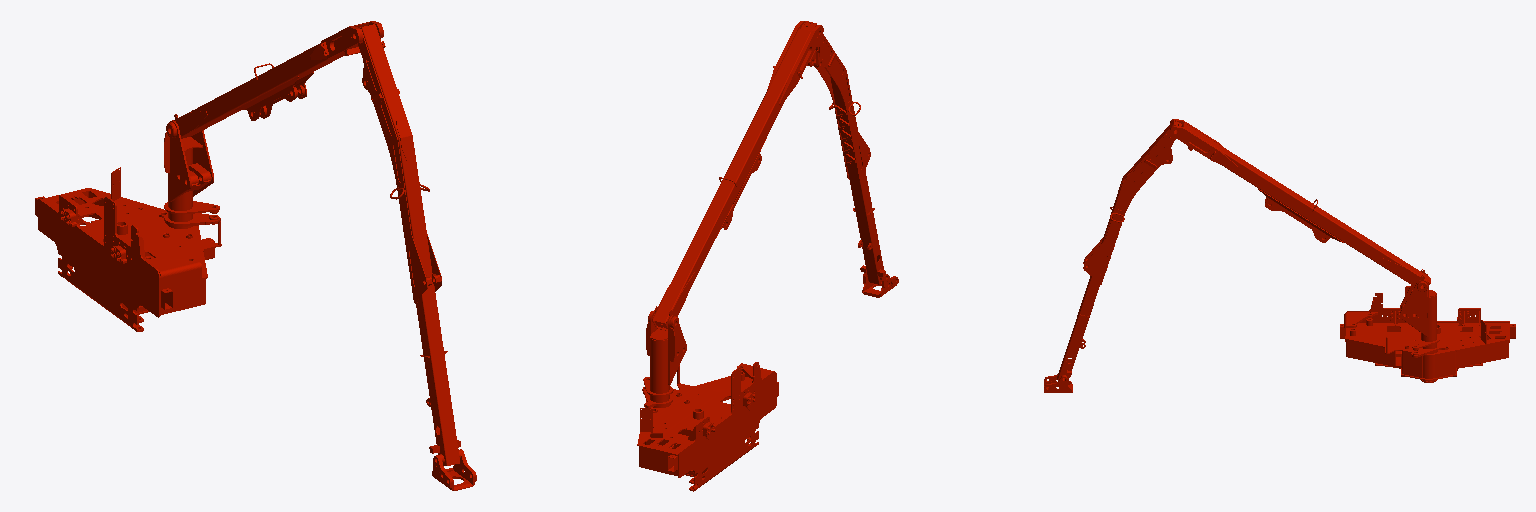
The robot description file, URDF, robot "Unimog_Mulag_FME500":
<robot name="Unimog_Mulag_FME500" version="1.0">
  <joint name="Drehzapfen_joint" type="revolute">
    <dynamics damping="50.00000"/>
    <limit lower="-1.57000" upper="0.52000" effort="50.00000" velocity="2.00000"/>
    <origin rpy="0.00000 0.00000 0.00000" xyz="0.59497 0.00002 0.05046"/>
    <parent link="Frontrahmen"/>
    <child link="Drehzapfen"/>
    <axis xyz="0.00000 0.00000 1.00000"/>
  </joint>
  <joint name="Ausleger_I_joint" type="revolute">
    <dynamics damping="50.00000"/>
    <limit lower="-0.52000" upper="0.52000" effort="50.00000" velocity="2.00000"/>
    <origin rpy="-1.57080 -0.60387 -1.57080" xyz="0.00000 -0.06001 0.98999"/>
    <parent link="Drehzapfen"/>
    <child link="Ausleger_I"/>
    <axis xyz="0.00000 0.00000 1.00000"/>
  </joint>
  <joint name="Ausleger_II_joint" type="revolute">
    <dynamics damping="50.00000"/>
    <limit lower="-0.52000" upper="0.52000" effort="50.00000" velocity="2.00000"/>
    <origin rpy="-0.00000 0.00000 1.78473" xyz="2.74997 -0.00009 0.00000"/>
    <parent link="Ausleger_I"/>
    <child link="Ausleger_II"/>
    <axis xyz="0.00000 0.00000 1.00000"/>
  </joint>
  <joint name="Messerkopf-Schwenk_joint" type="revolute">
    <dynamics damping="50.00000"/>
    <limit lower="-0.52000" upper="0.52000" effort="50.00000" velocity="2.00000"/>
    <origin rpy="0.00000 -0.00000 -0.01644" xyz="2.71027 0.00003 0.00000"/>
    <parent link="Ausleger_II"/>
    <child link="Messerkopf-Schwenk"/>
    <axis xyz="0.00000 0.00000 1.00000"/>
  </joint>
  <joint name="Messerkopf_joint" type="revolute">
    <dynamics damping="50.00000"/>
    <limit lower="-1.57000" upper="1.57000" effort="50.00000" velocity="2.00000"/>
    <origin rpy="3.08430 -1.57080 0.46367" xyz="0.17694 -0.00006 0.00000"/>
    <parent link="Messerkopf-Schwenk"/>
    <child link="Messerkopf"/>
    <axis xyz="0.00000 0.00000 1.00000"/>
  </joint>
  

  <link name="Frontrahmen">
    <collision name="Frontrahmen_collision">
      <origin rpy="0.00000 0.00000 0.00000" xyz="0.35076 -0.01350 0.18981"/>
      <geometry>
        <box size="0.70000 1.61698 0.55000"/>
      </geometry>
    </collision>
    <inertial>
      <inertia ixx="29.29286" ixy="-0.51650" ixz="0.52813" iyy="11.54738" iyz="0.57652" izz="32.68425"/>
      <origin rpy="0.00000 0.00000 0.00000" xyz="0.24989 -0.04141 0.24252"/>
      <mass value="226.20000"/>
    </inertial>
    <visual name="Frontrahmen._vis">
      <origin rpy="0.00000 0.00000 0.00000" xyz="0.00000 0.00000 0.00000"/>
      <material name="Yellow"/>
      <geometry>
        <mesh filename="../meshes/stl/E-026502_FME 500_AP_stl.003.stl" scale="1.00000 1.00000 1.00000"/>
      </geometry>
    </visual>
  </link>
  <link name="Drehzapfen">
    <collision name="Drehzapfen_collision">
      <origin rpy="0.00000 0.00000 0.00000" xyz="0.04191 -0.05484 0.68246"/>
      <geometry>
        <box size="0.34021 0.43031 0.50000"/>
      </geometry>
    </collision>
    <inertial>
      <inertia ixx="4.53844" ixy="0.04055" ixz="0.20085" iyy="4.43113" iyz="0.30594" izz="0.64685"/>
      <origin rpy="0.00000 0.00000 0.00000" xyz="0.00768 -0.05016 0.57203"/>
      <mass value="78.00000"/>
    </inertial>
    <visual name="Drehzapfen_vis">
      <origin rpy="0.00000 0.00000 0.00000" xyz="0.00000 0.00000 0.00000"/>
      <material name="Yellow"/>
      <geometry>
        <mesh filename="../meshes/stl/E-026502_FME 500_AP_stl.002.stl" scale="1.00000 1.00000 1.00000"/>
      </geometry>
    </visual>
  </link>
    <link name="Ausleger_I">
    <collision name="Ausleger_I_collision">
      <origin rpy="-0.00000 -0.00000 -0.00000" xyz="1.35040 0.12224 0.00000"/>
      <geometry>
        <box size="2.20000 0.40000 0.24890"/>
      </geometry>
    </collision>
    <inertial>
      <inertia ixx="79.71091" ixy="0.00829" ixz="-0.00674" iyy="26.11404" iyz="37.18349" izz="53.93508"/>
      <origin rpy="0.00000 0.00000 0.00000" xyz="1.37548 0.00615 -0.00003"/>
      <mass value="109.20000"/>
    </inertial>
    <visual name="Ausleger_I_vis">
      <origin rpy="-0.00000 0.00000 -0.00000" xyz="-0.00000 -0.00000 -0.00000"/>
      <material name="Yellow"/>
      <geometry>
        <mesh filename="../meshes/stl/E-026502_FME 500_AP_stl.004.stl" scale="1.00000 1.00000 1.00000"/>
      </geometry>
    </visual>
  </link>
  <link name="Ausleger_II">
    <collision name="Ausleger_II_collision">
      <origin rpy="-0.00000 0.00000 -0.00000" xyz="1.51446 -0.13969 0.00000"/>
      <geometry>
        <box size="2.30000 0.35148 0.24781"/>
      </geometry>
    </collision>
    <inertial>
      <inertia ixx="51.21949" ixy="-0.00393" ixz="-0.00687" iyy="44.12979" iyz="-17.19674" izz="7.26963"/>
      <origin rpy="0.00000 0.00000 0.00000" xyz="1.16587 -0.09974 0.00014"/>
      <mass value="85.50000"/>
    </inertial>
    <visual name="Ausleger_II_vis">
      <origin rpy="-0.00000 0.00000 -0.00000" xyz="-0.00000 -0.00000 -0.00000"/>
      <material name="Yellow"/>
      <geometry>
        <mesh filename="../meshes/stl/E-026502_FME 500_AP_stl.006.stl" scale="1.00000 1.00000 1.00000"/>
      </geometry>
    </visual>
  </link>
  <link name="Messerkopf-Schwenk">
    <inertial>
      <inertia ixx="0.09130" ixy="-0.00095" ixz="0.00186" iyy="0.08009" iyz="-0.00393" izz="0.09989"/>
      <origin rpy="0.00000 0.00000 0.00000" xyz="0.08365 -0.00278 0.00014"/>
      <mass value="15.60000"/>
    </inertial>
    <visual name="Messerkopf-Schwenk_base">
      <origin rpy="-0.00000 0.00000 0.00000" xyz="0.00000 -0.00000 -0.00000"/>
      <material name="Yellow"/>
      <geometry>
        <mesh filename="../meshes/stl/E-026502_FME 500_AP_stl.001.stl" scale="1.00000 1.00000 1.00000"/>
      </geometry>
    </visual>
  </link>
  <link name="Messerkopf">
    <collision name="Messerkopf_collision">
      <origin rpy="-0.00000 0.00000 0.00000" xyz="0.37816 -0.03350 0.24927"/>
      <geometry>
        <box size="1.06631 1.45698 0.55755"/>
      </geometry>
    </collision>
    <inertial>
      <inertia ixx="36.79160" ixy="2.31614" ixz="-2.38571" iyy="15.97443" iyz="0.98712" izz="46.45072"/>
      <origin rpy="0.00000 0.00000 0.00000" xyz="0.34269 -0.02063 0.19496"/>
      <mass value="218.39999"/>
    </inertial>
    <visual name="Messerkopf_vis">
      <origin rpy="-0.00000 0.00000 -0.00000" xyz="0.00000 0.00000 0.00000"/>
      <material name="Yellow"/>
      <geometry>
        <mesh filename="../meshes/stl/E-026502_FME 500_AP_stl.009.stl" scale="1.00000 1.00000 1.00000"/>
      </geometry>
    </visual>
  </link>

  <material name="Yellow">
    <color rgba="0.75686 0.12549 0.00392 1.00000"/>
  </material>
</robot>

--- What the picture shows (computed from the rendered views, not written in the file) ---
The picture shows the robot from 3 angles, left to right: view 1: azimuth 30°, elevation 25°; view 2: azimuth 150°, elevation 25°; view 3: azimuth 270°, elevation 25°; orthographic projection.
Model Unimog_Mulag_FME500 with 6 links and 5 joints (5 revolute), rooted at Frontrahmen, posed every joint at zero.
Visible links, largest first — view 1: Frontrahmen, Ausleger_II, Ausleger_I, Drehzapfen, Messerkopf-Schwenk; view 2: Frontrahmen, Ausleger_I, Ausleger_II, Drehzapfen; view 3: Frontrahmen, Ausleger_I, Ausleger_II, Drehzapfen.
Boxes of the visible links, x1,y1,x2,y2 form: Frontrahmen: (35,167,221,331); Ausleger_II: (358,24,460,465); Ausleger_I: (174,21,383,138); Drehzapfen: (164,120,220,226); Messerkopf-Schwenk: (432,449,476,490); Frontrahmen: (637,362,778,491); Ausleger_I: (652,21,823,330); Ausleger_II: (801,21,885,284); Drehzapfen: (642,310,686,407); Frontrahmen: (1340,286,1515,381); Ausleger_I: (1170,119,1430,287); Ausleger_II: (1057,120,1182,380); Drehzapfen: (1400,273,1445,382).
Bounding box of the posed robot: 0.871 × 4.33 × 2.75 m (x, y, z).
Meshes: 6 distinct files referenced, 5 mesh visuals loaded (5 binary STL); not drawn: 1 (reference not matched to a file when rendering).
